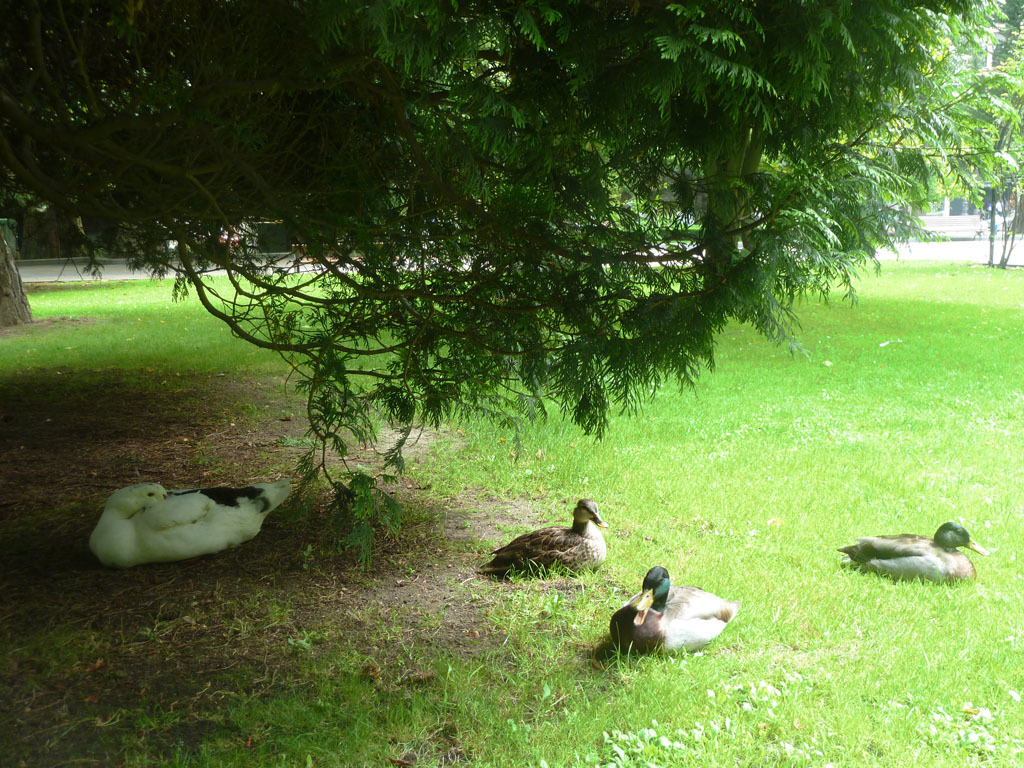Tree: (3, 0, 988, 470), (928, 11, 1022, 274), (835, 70, 956, 215)
